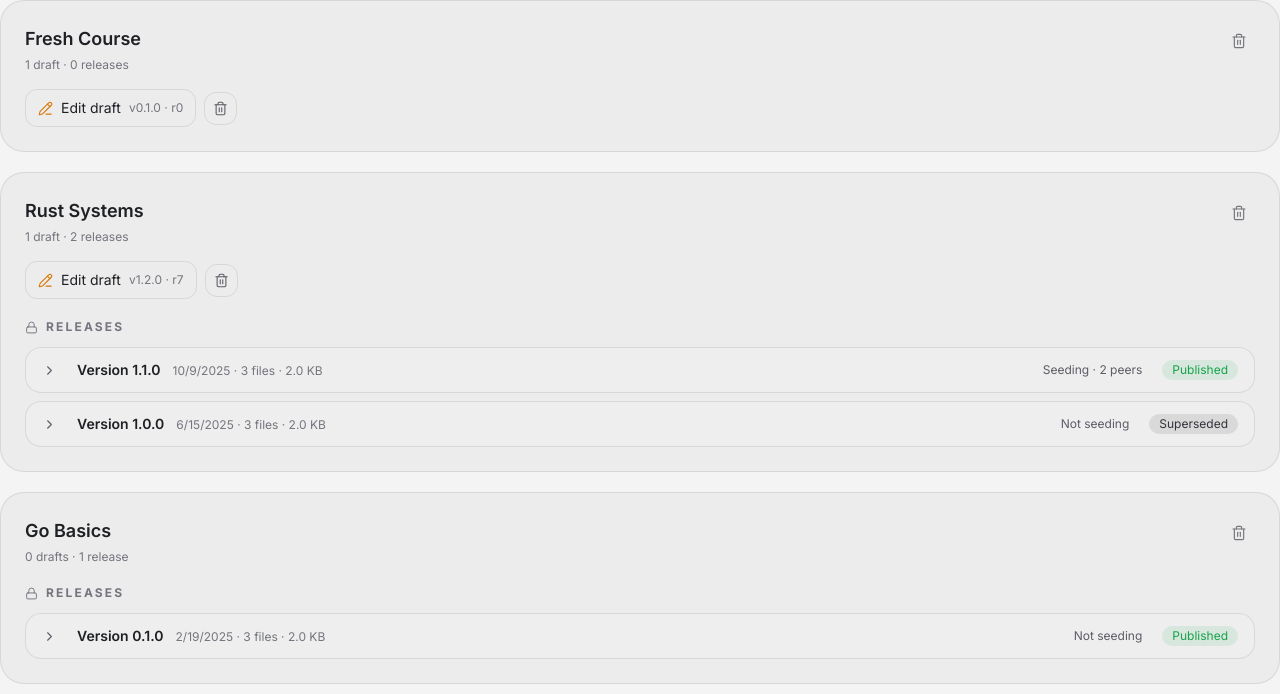
course management › copies the magnet, and selects it for manual copy when the clipboard is refused
Step 1. Click the button "Version 1.1.0" → (105, 370), box [26, 348, 1254, 392]
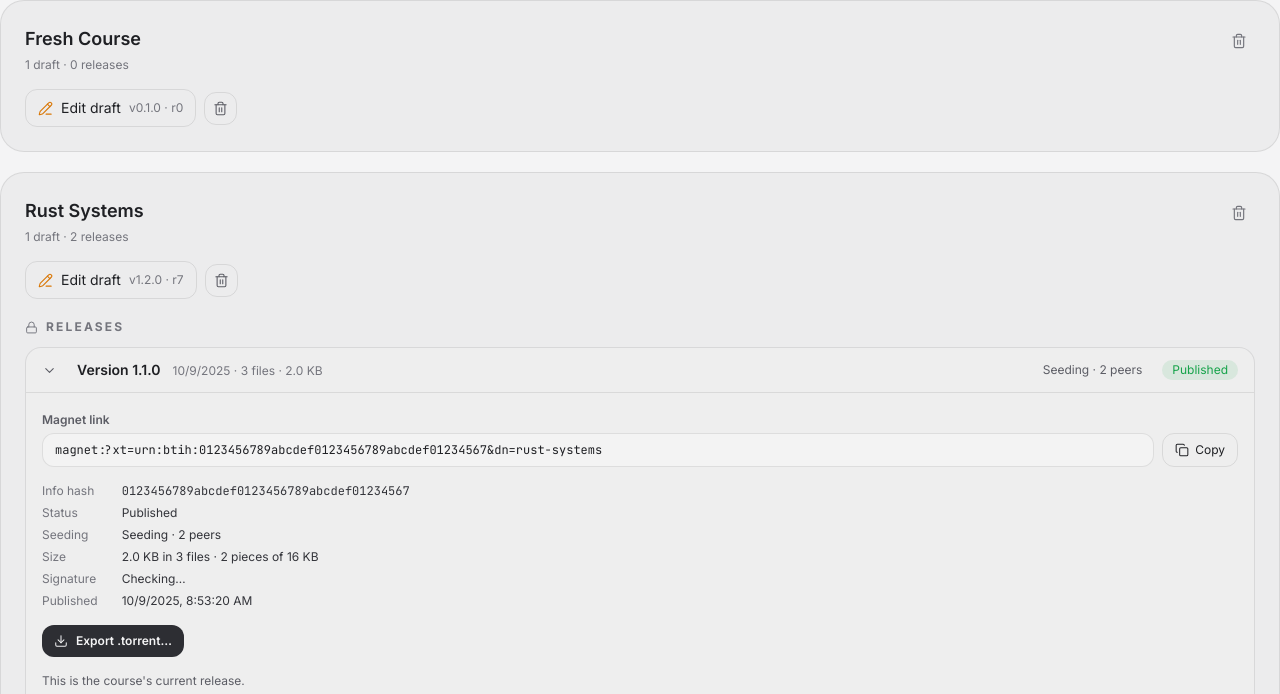
Step 2. Click the button "Copy" → (1200, 450), box [1162, 433, 1238, 467]
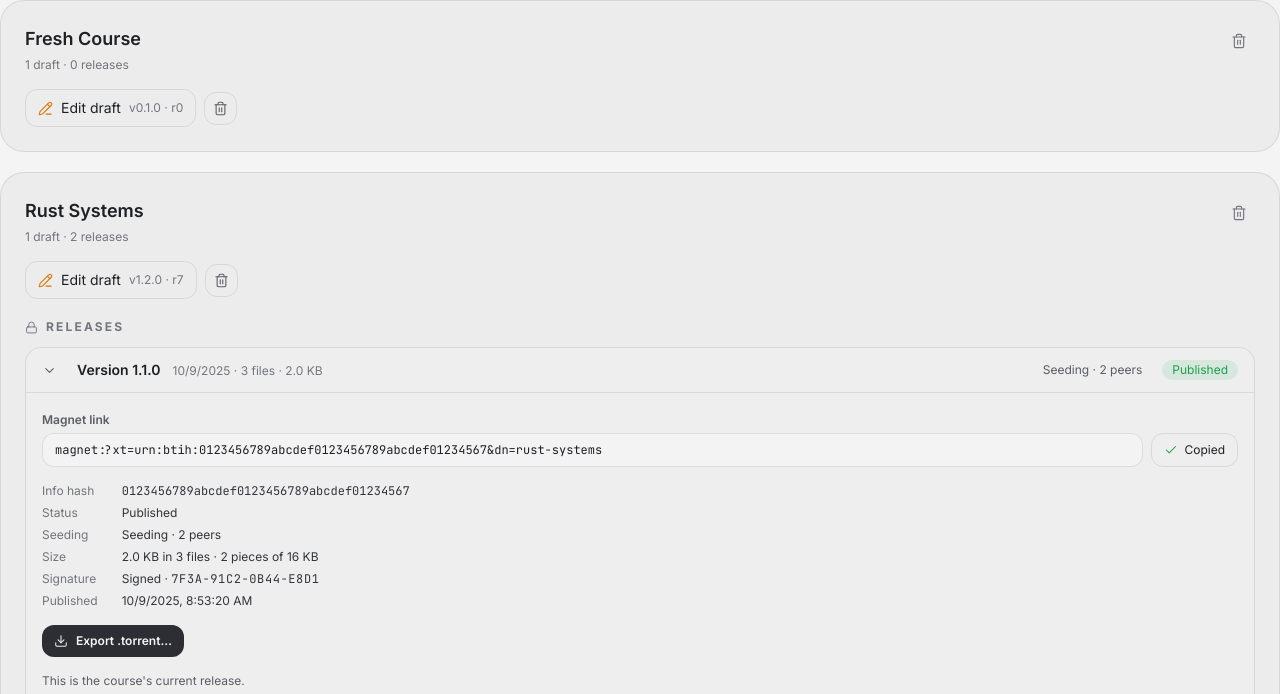
Check: the button "Copied" is shown
Step 3. Click the button "Copied" → (1195, 450), box [1151, 433, 1238, 467]
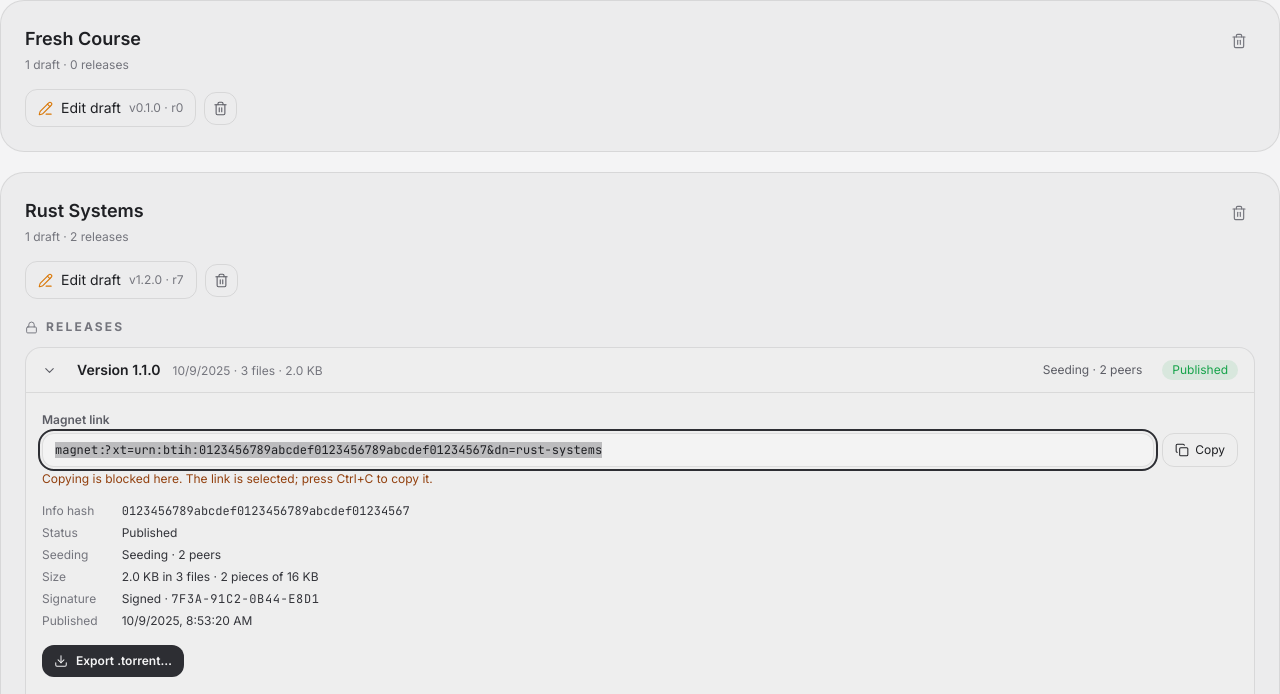
Check: the message shows "press Ctrl+C", box [42, 471, 433, 486]
